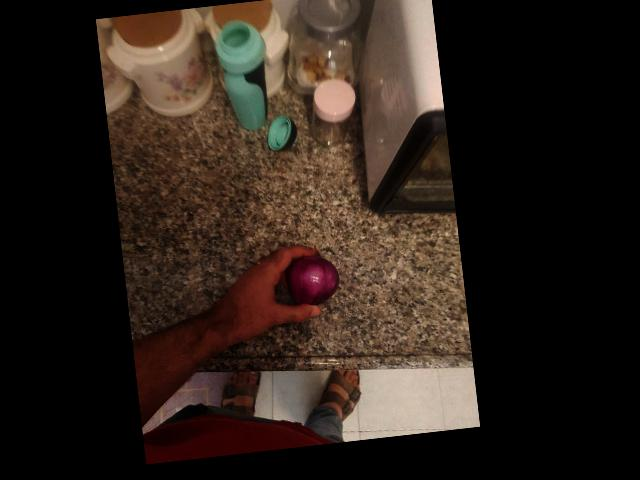onion: (276, 253, 339, 312)
